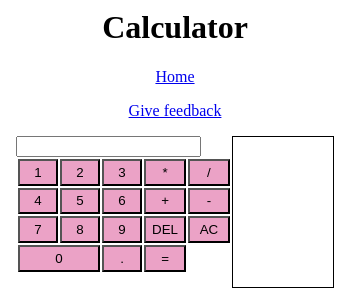
Scenario: Calculator gives correct results › Writes '3*3' and gets 9 as a result
Step 1. Click the button "3" → (122, 173), box x1=102 y1=159 x2=142 y2=186
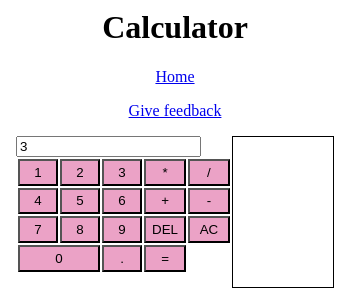
Step 2. Click the button "*" → (165, 173), box x1=144 y1=159 x2=186 y2=186
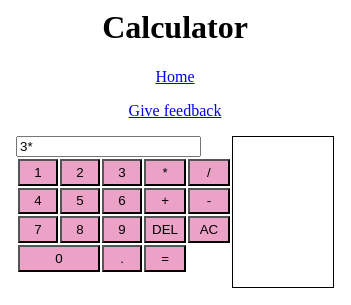
Step 3. Click the button "3" → (122, 173), box x1=102 y1=159 x2=142 y2=186
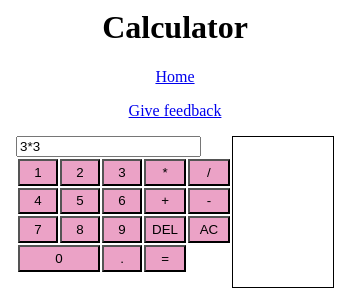
Step 4. Click the button "=" → (165, 259), box x1=144 y1=245 x2=186 y2=272
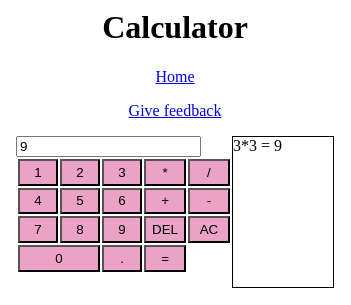
Now the field holds "9", box x1=16 y1=136 x2=201 y2=157
